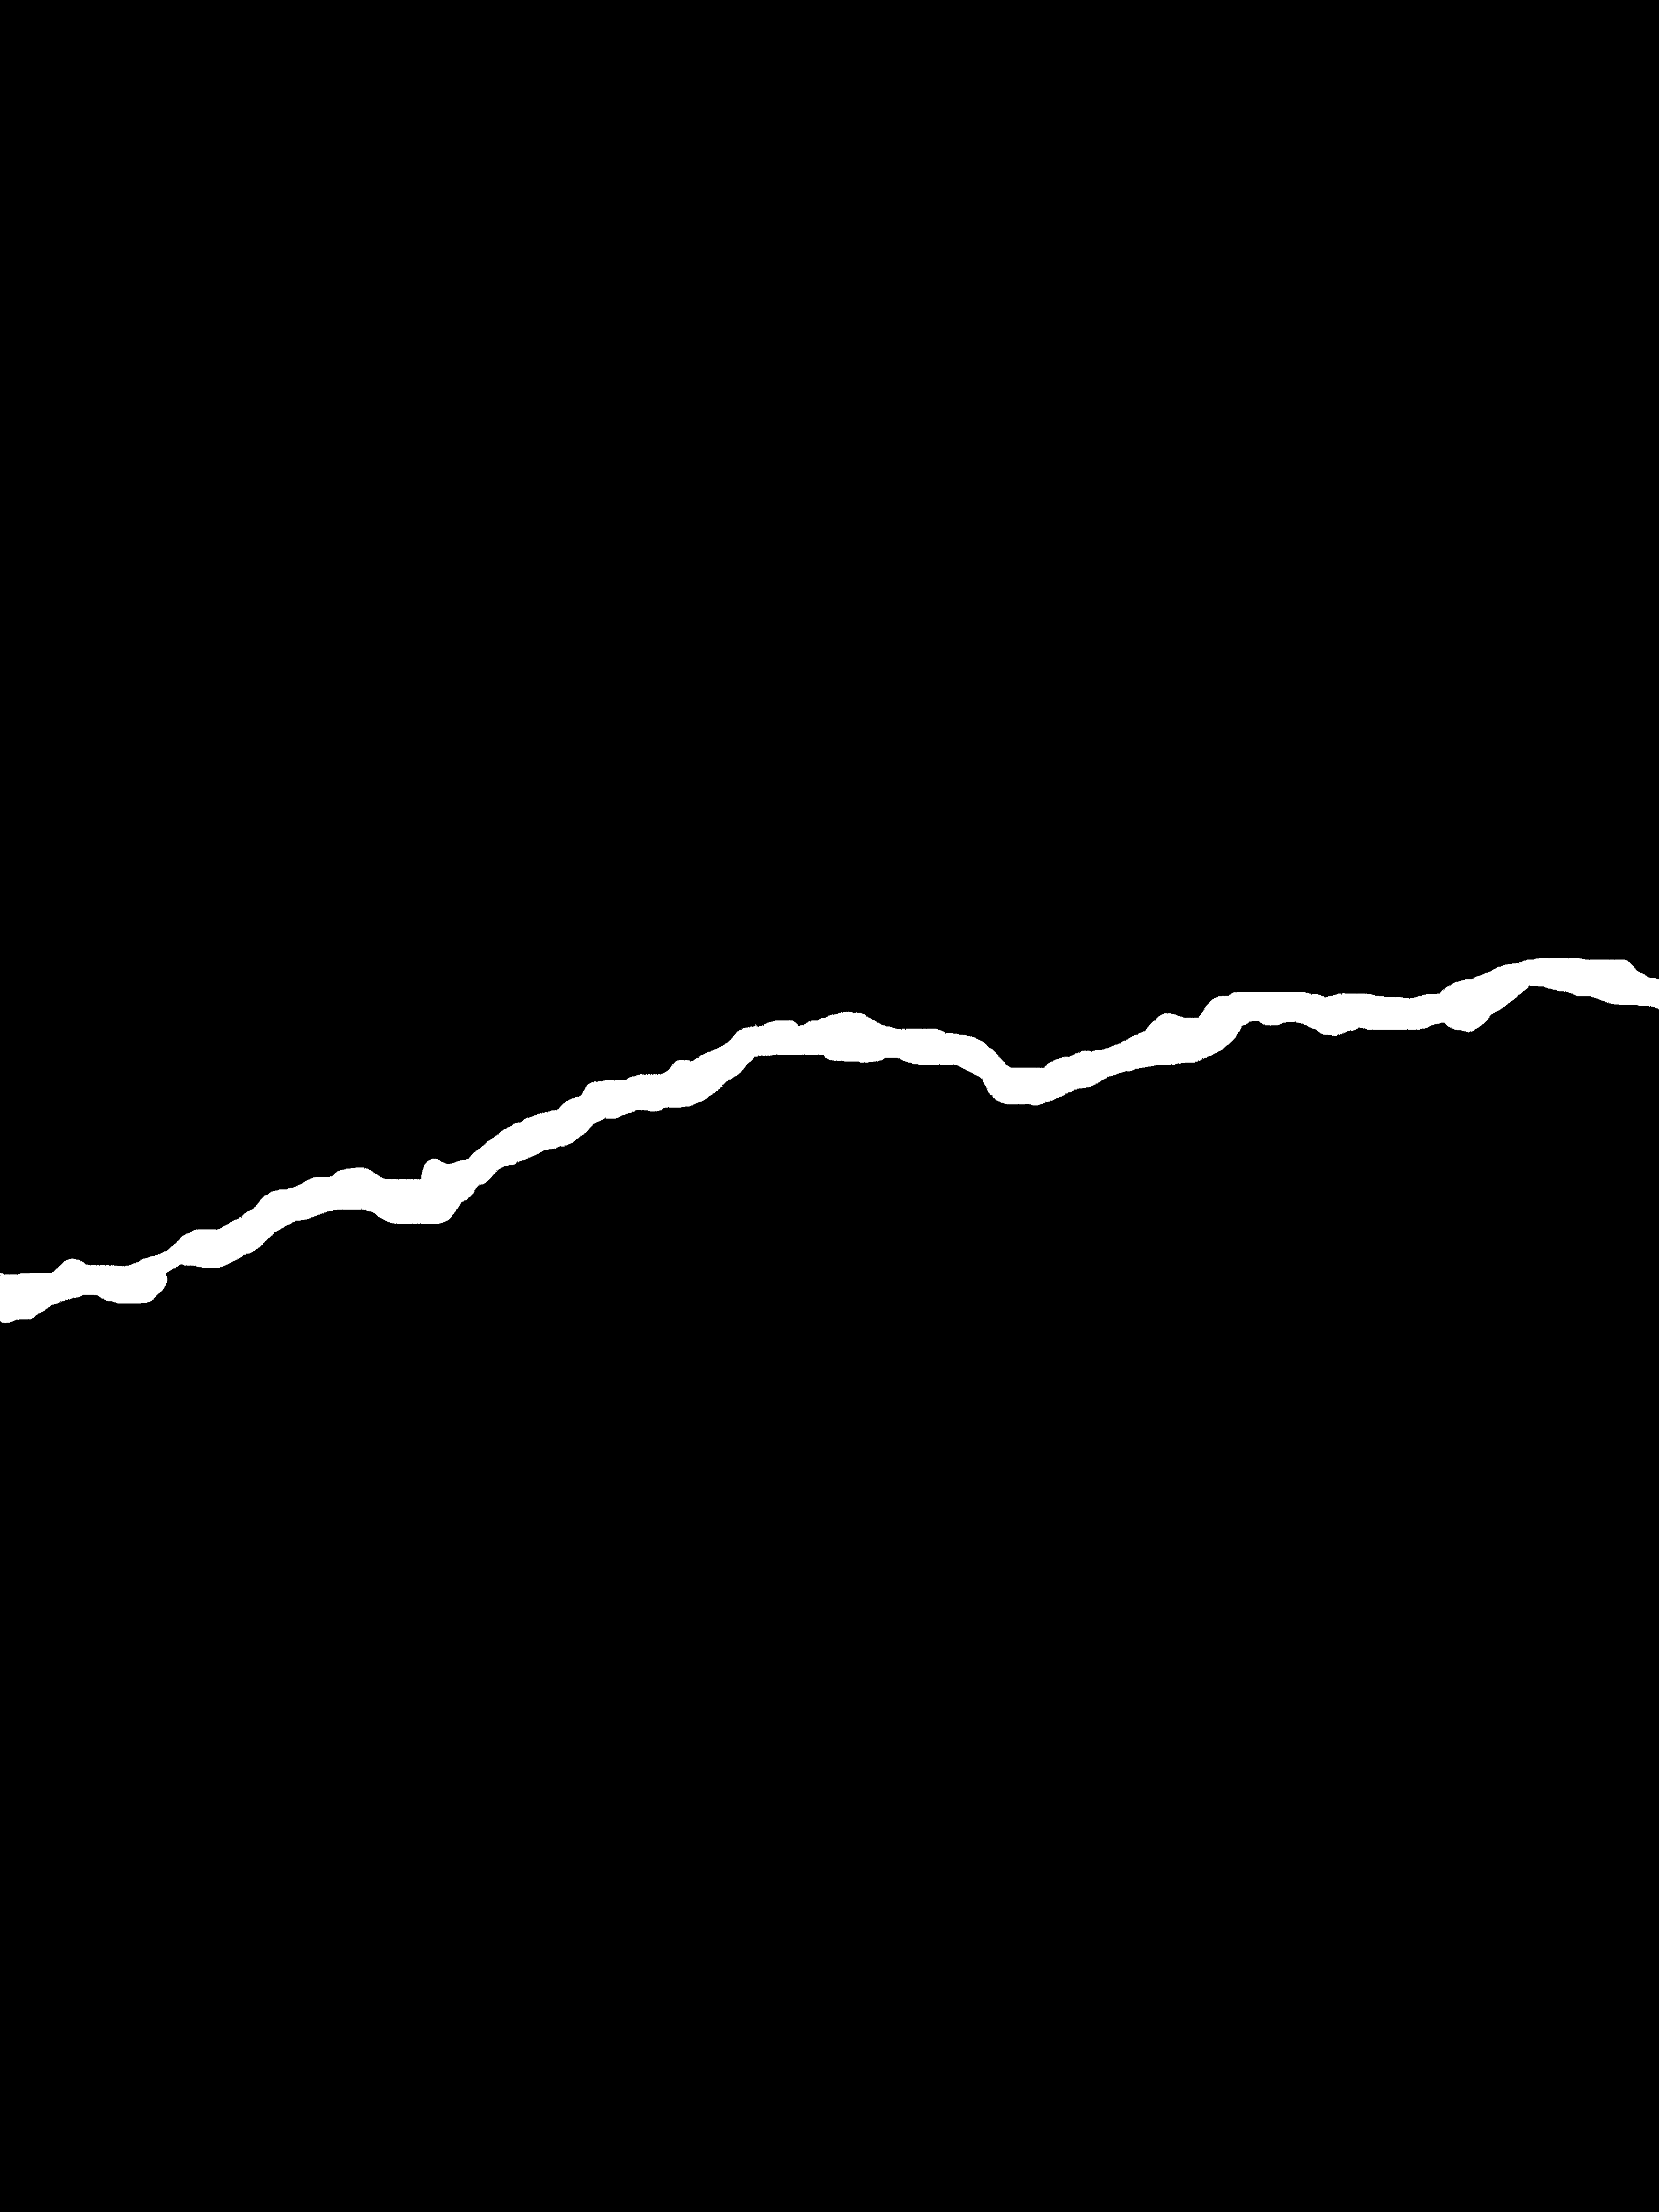Crack: (0, 934, 1659, 1345)
